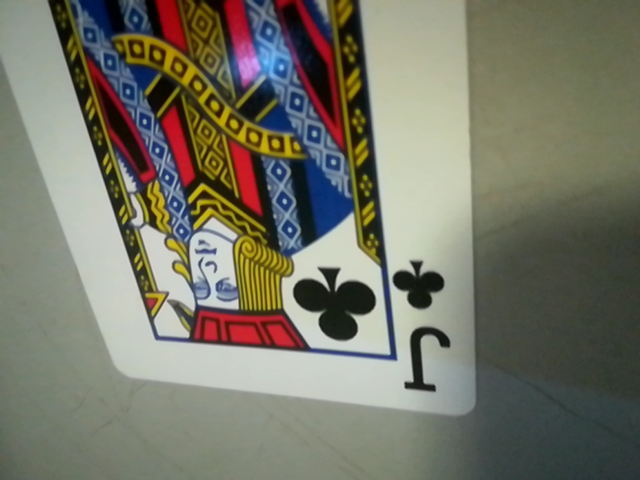mh j: (386, 251, 467, 406)
